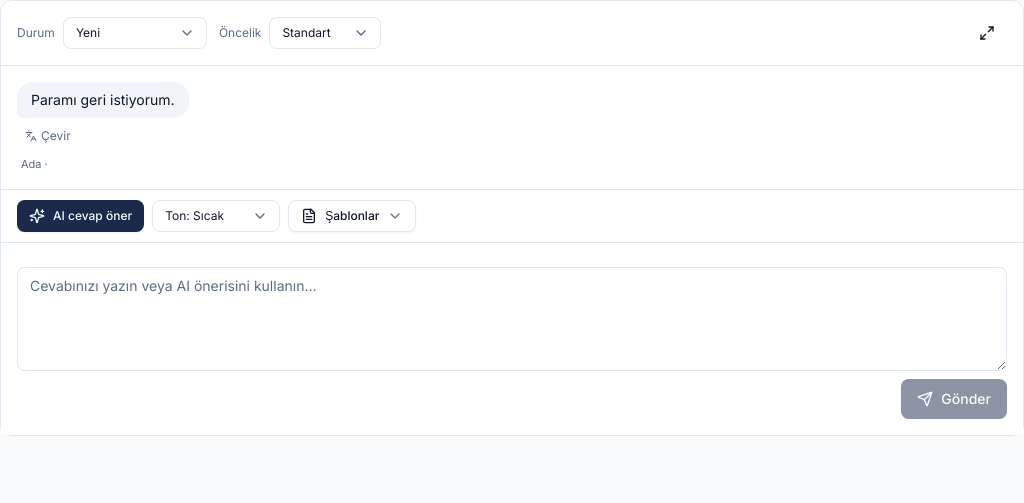
Scenario: konuşma ekranı — yapay zekâ önerisi hazırlanamadığında (3d) › 🚨 model yok + taslak boş → not görünür; öneri kartı, 'Taslağı kullan' ve 'Onayla ve gönder' YOK
Click the button "AI cevap öner" at (81, 216), box left=17, top=200, right=144, bottom=232
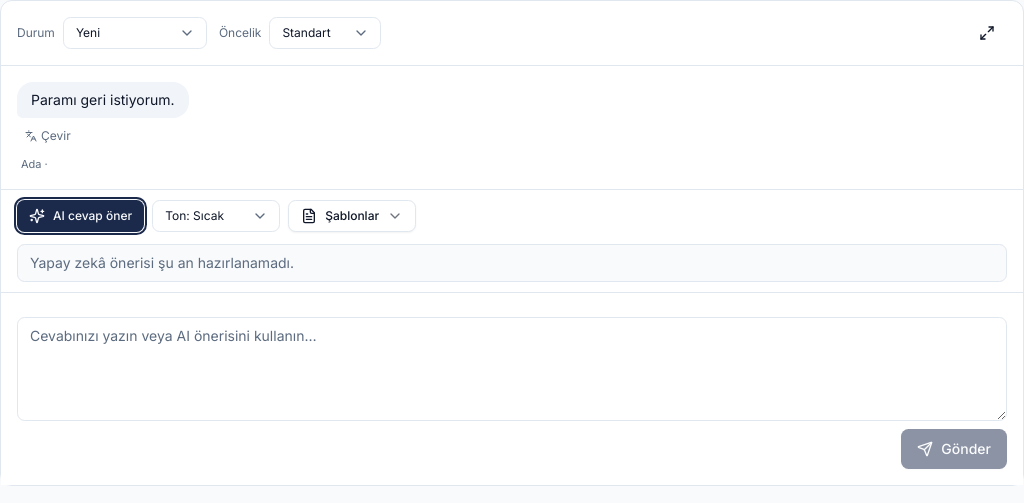
Expected: the message with test id "no-ai-suggestion" reads "Yapay zekâ önerisi şu an hazırlanamadı.", left=30, top=254, right=294, bottom=270
